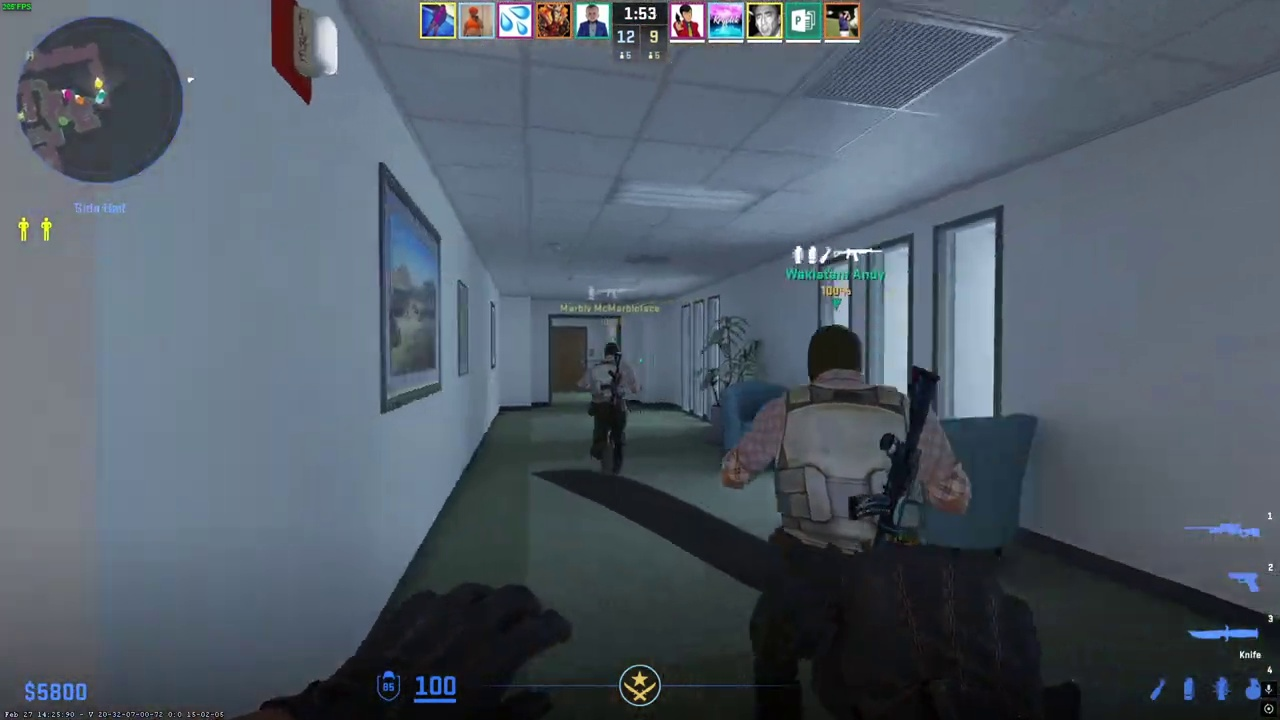Terrorist: (733, 324, 950, 720), (585, 341, 634, 476)
